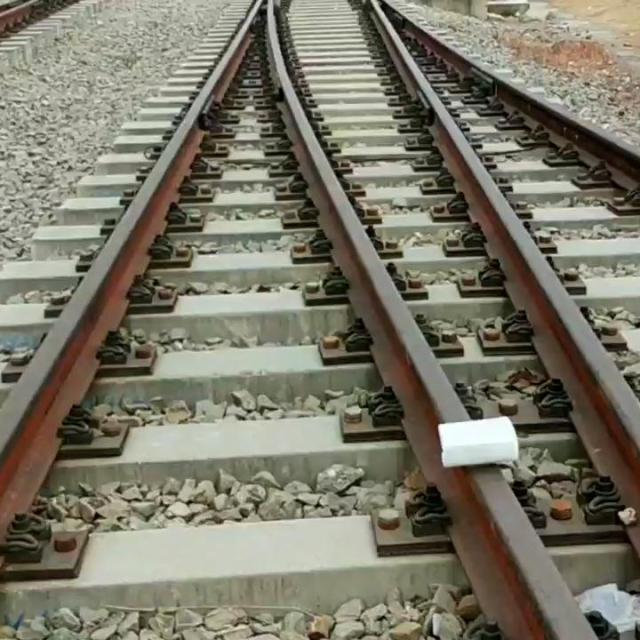danger: (433, 407, 526, 483)
rail: (264, 0, 596, 640), (372, 0, 640, 511), (382, 0, 640, 188)
